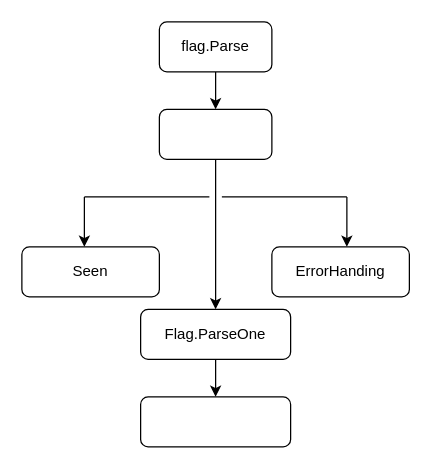
Image size: 431x469. Some labels were removed from this diagram. The shapes that lost their labels are listed below. From the top down, each one's centre as x and y in pixels, then its label:
At (x=215, y=133): "FlagSet.Parse".
At (x=215, y=421): "Value.Set".
